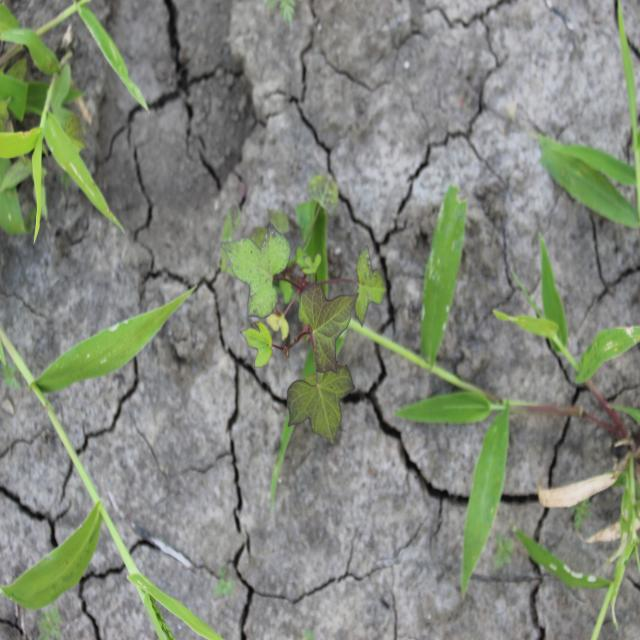MorningGlory: (218, 172, 388, 446)
